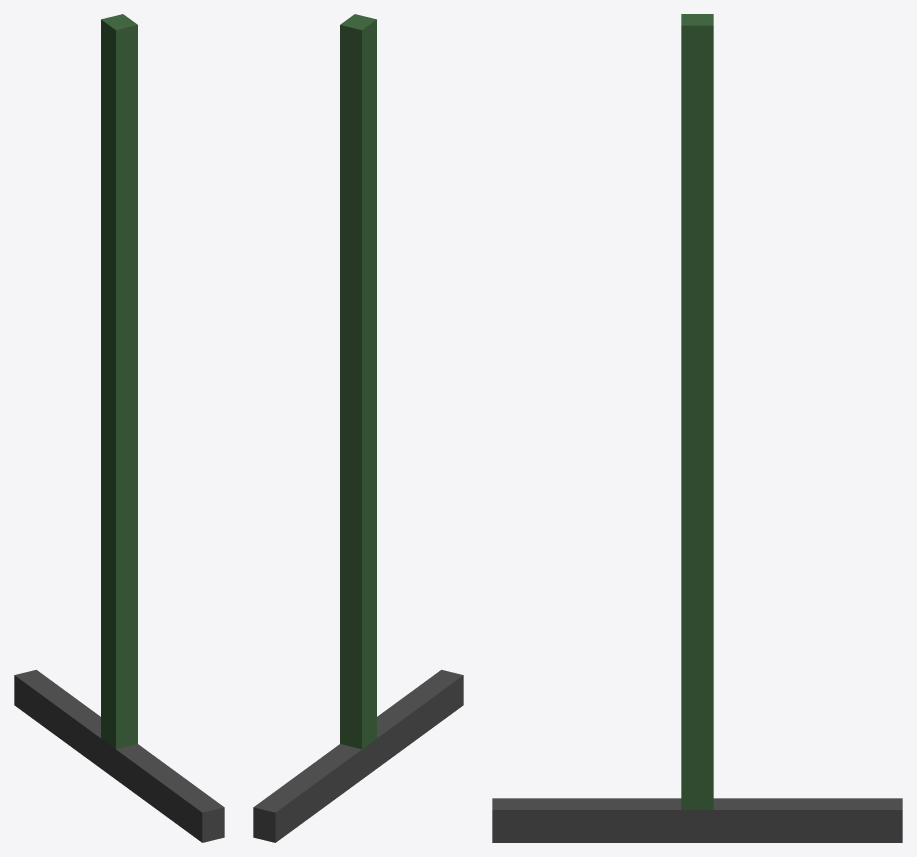
Rendered from squeegee.fbx.
The picture shows the model from 3 angles, left to right: view 1: azimuth 30°, elevation 25°; view 2: azimuth 150°, elevation 25°; view 3: azimuth 270°, elevation 25°; orthographic projection. The views are drawn at different scales.
Visible parts, largest first — view 1: squeegee; view 2: squeegee; view 3: squeegee.
Boxes of the visible parts, x1,y1,x2,y2 form: squeegee: (14,14,224,842); squeegee: (253,14,463,842); squeegee: (492,14,902,842).
Size of the model in its own units: 12.21 by 396 by 180.
